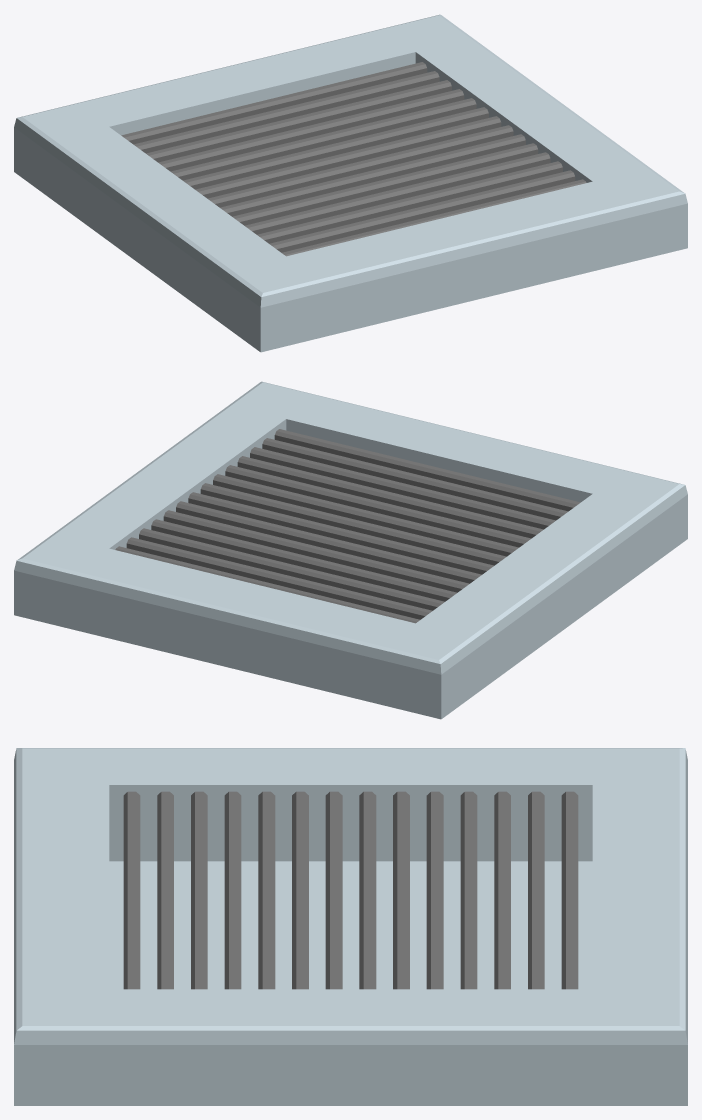
Rendered from floor_tile_00_vent.glb.
3 renders of one model, top to bottom at view 1: azimuth 30°, elevation 25°; view 2: azimuth 150°, elevation 25°; view 3: azimuth 270°, elevation 25°, orthographic. The views are drawn at different scales.
Parts seen in each view (by area): view 1: floor_tile_00_vent; view 2: floor_tile_00_vent; view 3: floor_tile_00_vent.
Part boxes in pixels (x1=…): floor_tile_00_vent: x1=14, y1=14, x2=687, y2=352; floor_tile_00_vent: x1=14, y1=381, x2=687, y2=719; floor_tile_00_vent: x1=14, y1=748, x2=687, y2=1105.
Bounding box in the file's own units: 4 × 0.5 × 4.
